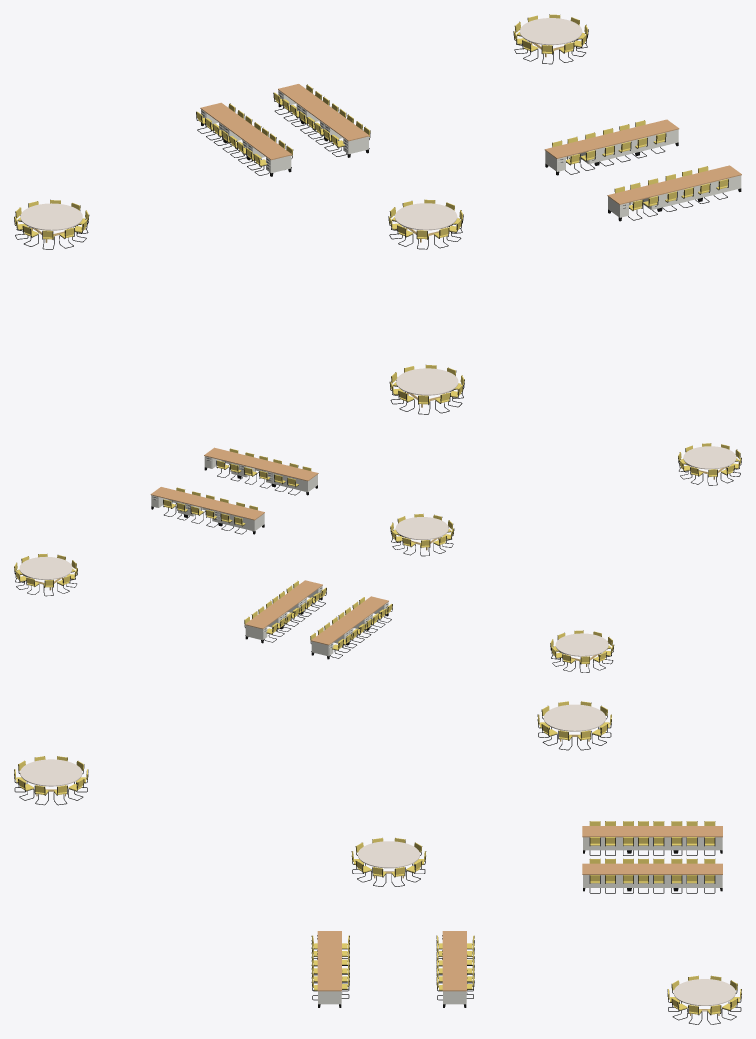
Rendered from Zoll_Base_Version3_Level_4_IfcFurnishingElement.dae.
3 renders of one model, top to bottom at view 1: azimuth 30°, elevation 25°; view 2: azimuth 150°, elevation 25°; view 3: azimuth 270°, elevation 25°, orthographic. The views are drawn at different scales.
Parts seen in each view (by area): view 1: 1Gt4U9gJz6nBcKo3o0TmQM, 1Gt4U9gJz6nBcKo3o0TmOn, 1Gt4U9gJz6nBcKo3o0Tm41, 1Gt4U9gJz6nBcKo3o0TmPa, 1Gt4U9gJz6nBcKo3o0TmGd, 1Gt4U9gJz6nBcKo3o0Tnzo, 1Gt4U9gJz6nBcKo3o0TmMo, 1Gt4U9gJz6nBcKo3o0Tne1, 1Gt4U9gJz6nBcKo3o0Tnzm, 1Gt4U9gJz6nBcKo3o0Tnao, 1Gt4U9gJz6nBcKo3o0TnXy, 1Gt4U9gJz6nBcKo3o0Tnzp (+4 smaller); view 2: 1Gt4U9gJz6nBcKo3o0TmQM, 1Gt4U9gJz6nBcKo3o0TmOn, 1Gt4U9gJz6nBcKo3o0TmPa, 1Gt4U9gJz6nBcKo3o0Tm41, 1Gt4U9gJz6nBcKo3o0Tne1, 1Gt4U9gJz6nBcKo3o0Tnzo, 1Gt4U9gJz6nBcKo3o0TmS5, 1Gt4U9gJz6nBcKo3o0TmNz, 1Gt4U9gJz6nBcKo3o0Tnzm, 1Gt4U9gJz6nBcKo3o0Tnao, 1Gt4U9gJz6nBcKo3o0Tnzp, 1Gt4U9gJz6nBcKo3o0TnXy (+4 smaller); view 3: 1Gt4U9gJz6nBcKo3o0TmOn, 1Gt4U9gJz6nBcKo3o0TmQM, 1Gt4U9gJz6nBcKo3o0Tm41, 1Gt4U9gJz6nBcKo3o0TmPa, 1Gt4U9gJz6nBcKo3o0TmNz, 1Gt4U9gJz6nBcKo3o0TmS5, 1Gt4U9gJz6nBcKo3o0TmMo, 1Gt4U9gJz6nBcKo3o0TmGd, 1Gt4U9gJz6nBcKo3o0TmLC, 1Gt4U9gJz6nBcKo3o0TmJe, 1Gt4U9gJz6nBcKo3o0Tnao, 1Gt4U9gJz6nBcKo3o0Tnzm.
Part boxes in pixels (x1=…): 1Gt4U9gJz6nBcKo3o0TmQM: x1=20, y1=203, x2=82, y2=242; 1Gt4U9gJz6nBcKo3o0TmOn: x1=396, y1=368, x2=458, y2=407; 1Gt4U9gJz6nBcKo3o0Tm41: x1=395, y1=203, x2=457, y2=242; 1Gt4U9gJz6nBcKo3o0TmPa: x1=520, y1=18, x2=582, y2=57; 1Gt4U9gJz6nBcKo3o0TmGd: x1=247, y1=137, x2=291, y2=176; 1Gt4U9gJz6nBcKo3o0Tnzo: x1=607, y1=185, x2=660, y2=221; 1Gt4U9gJz6nBcKo3o0TmMo: x1=325, y1=118, x2=369, y2=157; 1Gt4U9gJz6nBcKo3o0Tne1: x1=544, y1=139, x2=597, y2=175; 1Gt4U9gJz6nBcKo3o0Tnzm: x1=689, y1=165, x2=741, y2=201; 1Gt4U9gJz6nBcKo3o0Tnao: x1=626, y1=119, x2=679, y2=155; 1Gt4U9gJz6nBcKo3o0TnXy: x1=586, y1=129, x2=637, y2=165; 1Gt4U9gJz6nBcKo3o0Tnzp: x1=648, y1=175, x2=701, y2=211; 1Gt4U9gJz6nBcKo3o0TmQM: x1=555, y1=633, x2=608, y2=666; 1Gt4U9gJz6nBcKo3o0TmOn: x1=683, y1=446, x2=736, y2=479; 1Gt4U9gJz6nBcKo3o0TmPa: x1=19, y1=556, x2=72, y2=590; 1Gt4U9gJz6nBcKo3o0Tm41: x1=395, y1=517, x2=448, y2=550; 1Gt4U9gJz6nBcKo3o0Tne1: x1=220, y1=503, x2=264, y2=534; 1Gt4U9gJz6nBcKo3o0Tnzo: x1=273, y1=464, x2=318, y2=495; 1Gt4U9gJz6nBcKo3o0TmS5: x1=311, y1=626, x2=348, y2=659; 1Gt4U9gJz6nBcKo3o0TmNz: x1=245, y1=609, x2=283, y2=643; 1Gt4U9gJz6nBcKo3o0Tnzm: x1=204, y1=447, x2=249, y2=478; 1Gt4U9gJz6nBcKo3o0Tnao: x1=150, y1=487, x2=195, y2=517; 1Gt4U9gJz6nBcKo3o0Tnzp: x1=239, y1=456, x2=283, y2=486; 1Gt4U9gJz6nBcKo3o0TnXy: x1=185, y1=495, x2=229, y2=525; 1Gt4U9gJz6nBcKo3o0TmOn: x1=20, y1=759, x2=82, y2=796; 1Gt4U9gJz6nBcKo3o0TmQM: x1=543, y1=704, x2=605, y2=741; 1Gt4U9gJz6nBcKo3o0Tm41: x1=358, y1=841, x2=419, y2=878; 1Gt4U9gJz6nBcKo3o0TmPa: x1=673, y1=979, x2=735, y2=1015; 1Gt4U9gJz6nBcKo3o0TmNz: x1=675, y1=863, x2=722, y2=891; 1Gt4U9gJz6nBcKo3o0TmS5: x1=675, y1=826, x2=722, y2=853; 1Gt4U9gJz6nBcKo3o0TmMo: x1=582, y1=863, x2=629, y2=891; 1Gt4U9gJz6nBcKo3o0TmGd: x1=582, y1=826, x2=629, y2=853; 1Gt4U9gJz6nBcKo3o0TmLC: x1=629, y1=863, x2=676, y2=891; 1Gt4U9gJz6nBcKo3o0TmJe: x1=629, y1=826, x2=675, y2=853; 1Gt4U9gJz6nBcKo3o0Tnao: x1=442, y1=970, x2=467, y2=1007; 1Gt4U9gJz6nBcKo3o0Tnzm: x1=317, y1=970, x2=341, y2=1007.
Size of the model in its own units: 28.41 by 28.59 by 0.8065.
